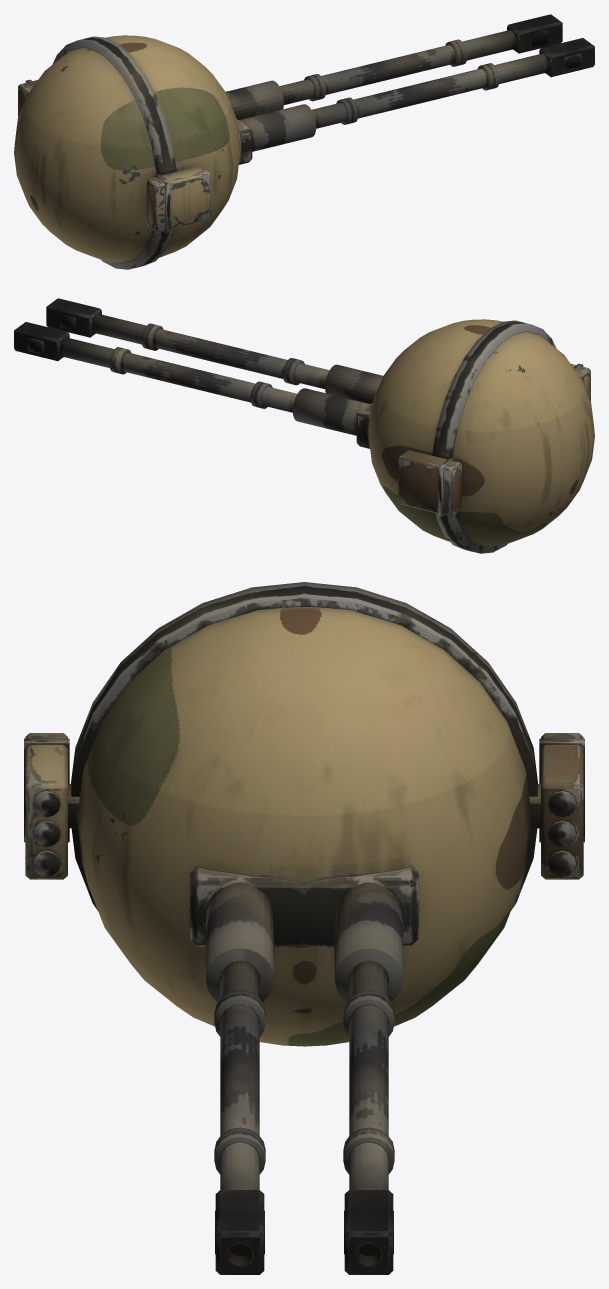
Rendered from turret_kit_tail_ball_t2_reed.glb.
3 renders of one model, top to bottom at view 1: azimuth 30°, elevation 25°; view 2: azimuth 150°, elevation 25°; view 3: azimuth 270°, elevation 25°, orthographic. The views are drawn at different scales.
Parts seen in each view (by area): view 1: turret_tail_ball_t2, pods; view 2: turret_tail_ball_t2, pods; view 3: turret_tail_ball_t2, pods.
Boxes of the visible parts, bbox=[...] form: turret_tail_ball_t2: bbox=[14, 14, 594, 269]; pods: bbox=[18, 79, 210, 232]; turret_tail_ball_t2: bbox=[14, 298, 594, 553]; pods: bbox=[398, 363, 590, 516]; turret_tail_ball_t2: bbox=[71, 582, 537, 1274]; pods: bbox=[24, 733, 584, 879].
Bounding box in the file's own units: 1.66 × 0.62 × 0.7402.
2 materials, 2 textured.
